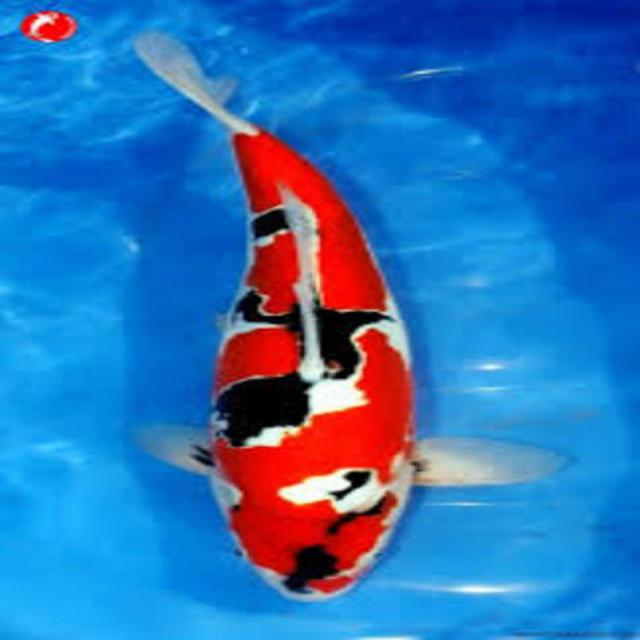Showa: (126, 29, 573, 602)
